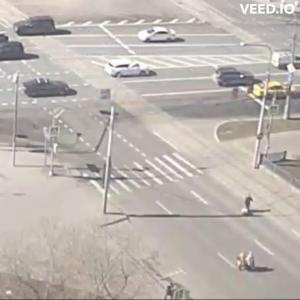car: (24, 79, 79, 99), (214, 67, 258, 90), (106, 60, 154, 79), (251, 83, 296, 101), (135, 26, 182, 43), (17, 18, 60, 35), (1, 42, 30, 61), (274, 55, 300, 72)
